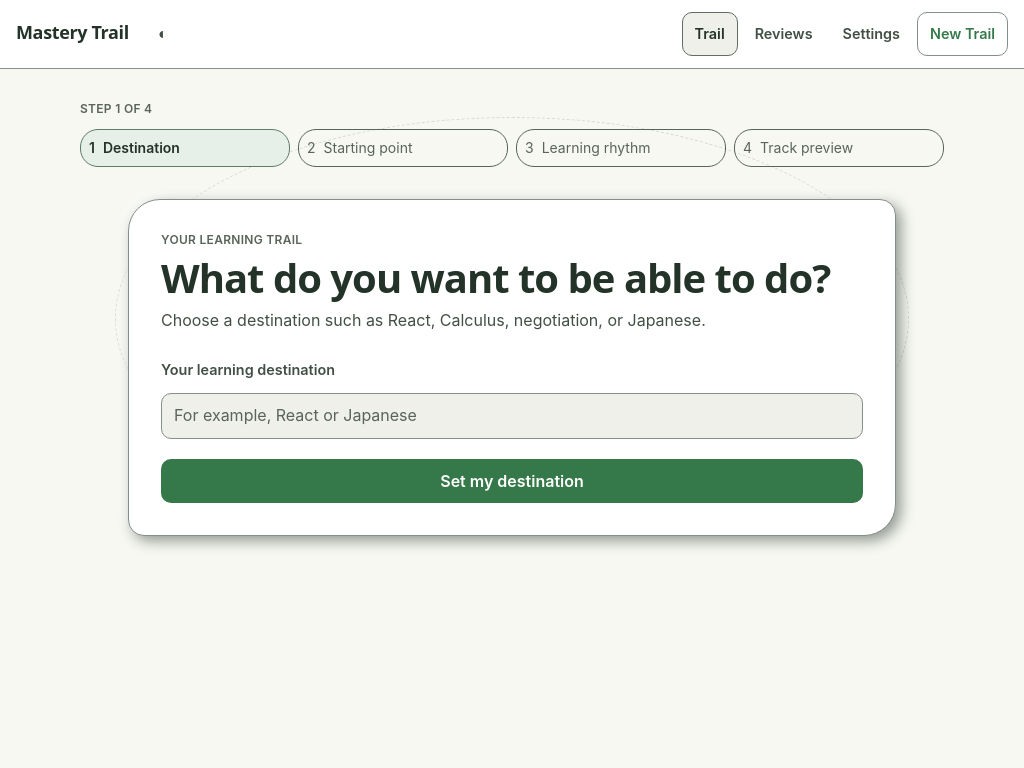
OnboardingFlow › offers a clear retry when placement preparation fails
The image size is (1024, 768).
In the field labelled "Your learning destination": (512, 416) [161,393,863,439], type "React"
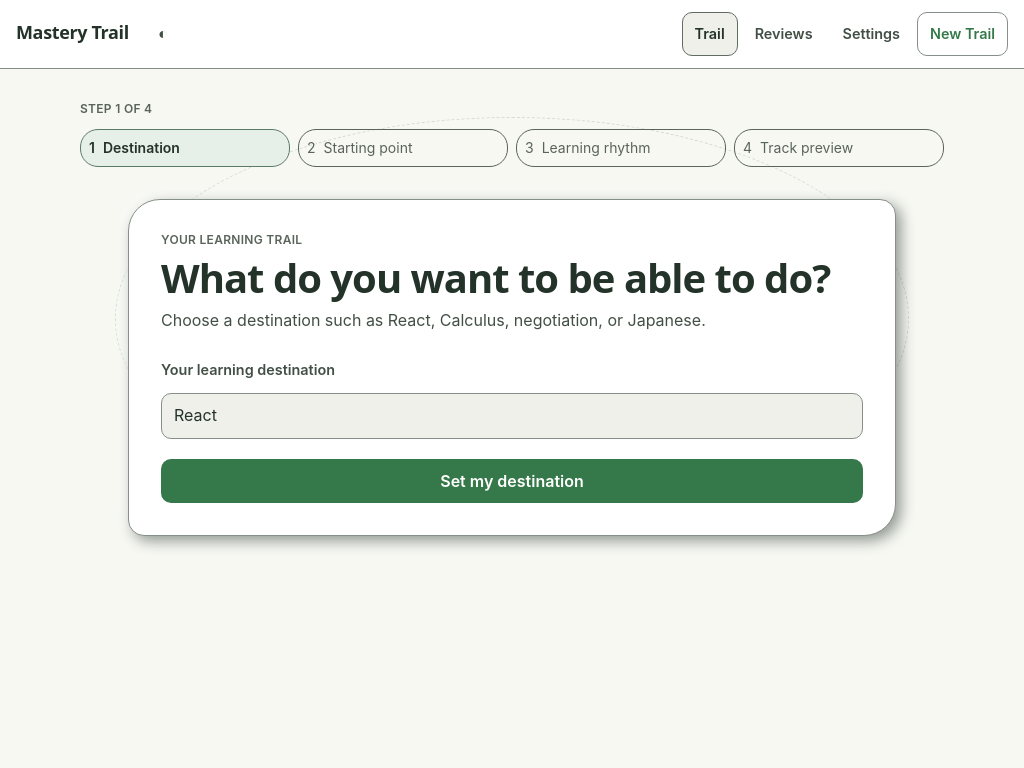
Click the button "Set my destination": (512, 481) [161,459,863,503]
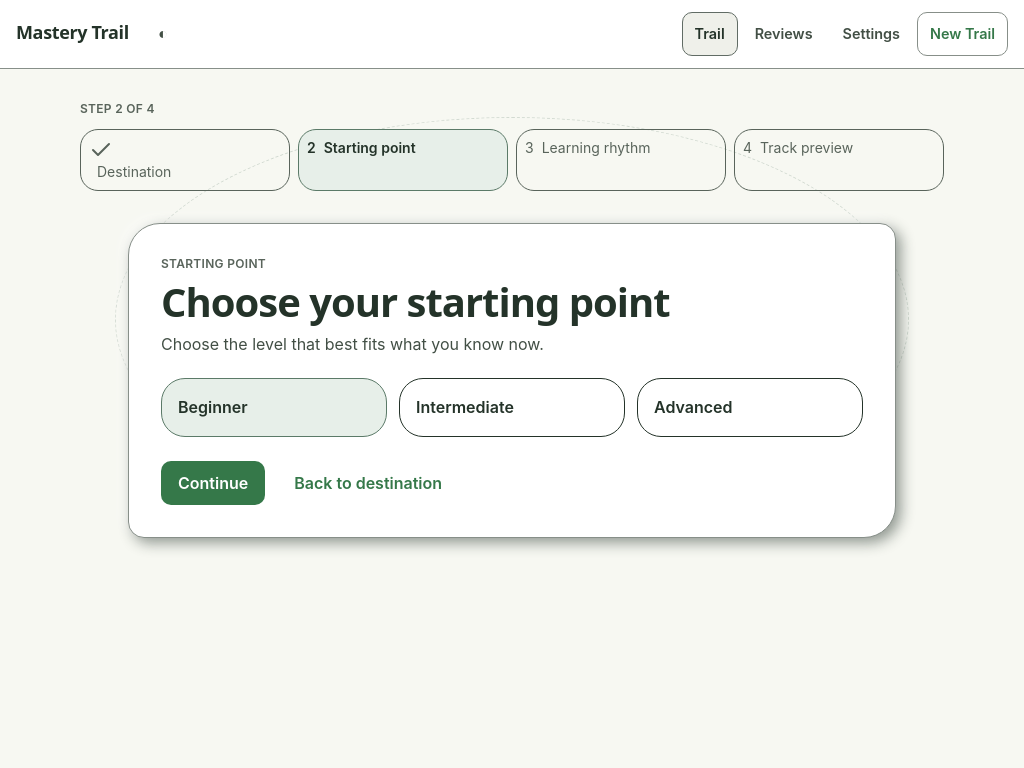
Click the button "Intermediate": (512, 407) [399,378,625,437]
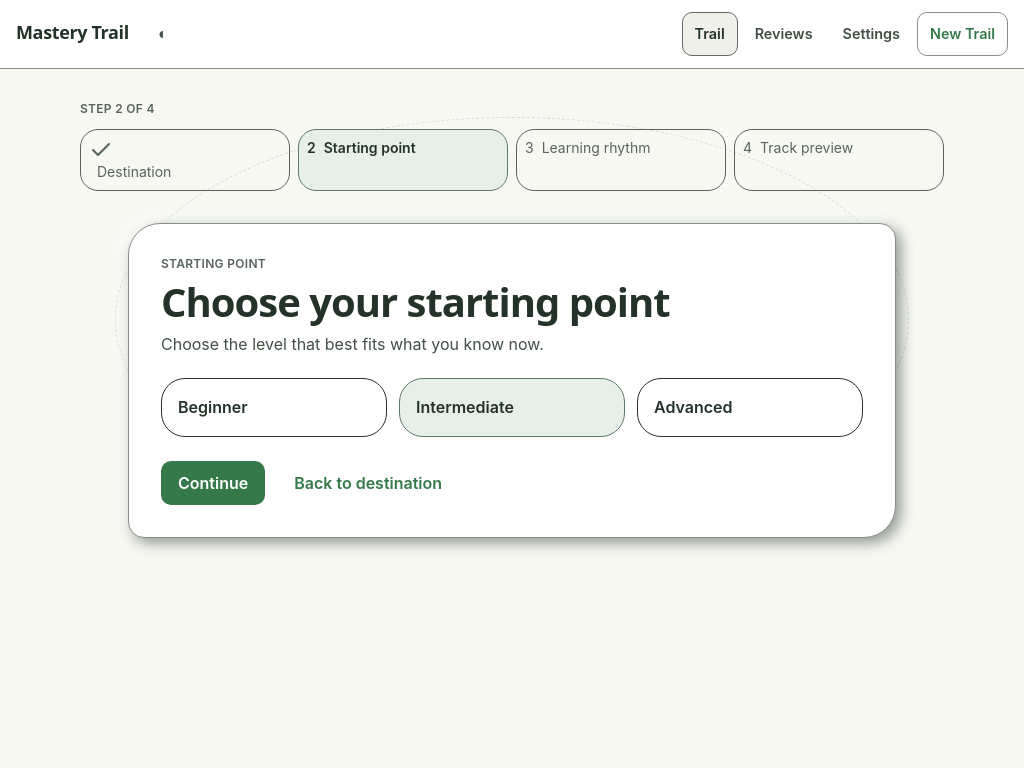
Click the button "Continue": (213, 483) [161,461,265,505]
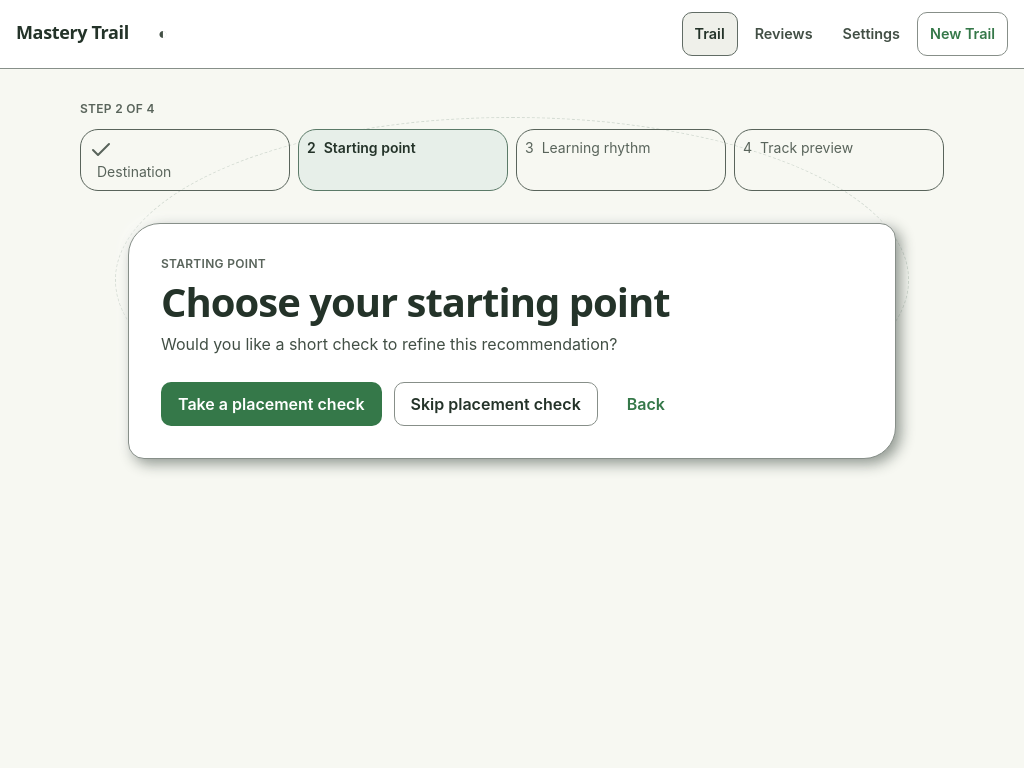
Click the button "Take a placement check": (271, 404) [161,382,382,426]
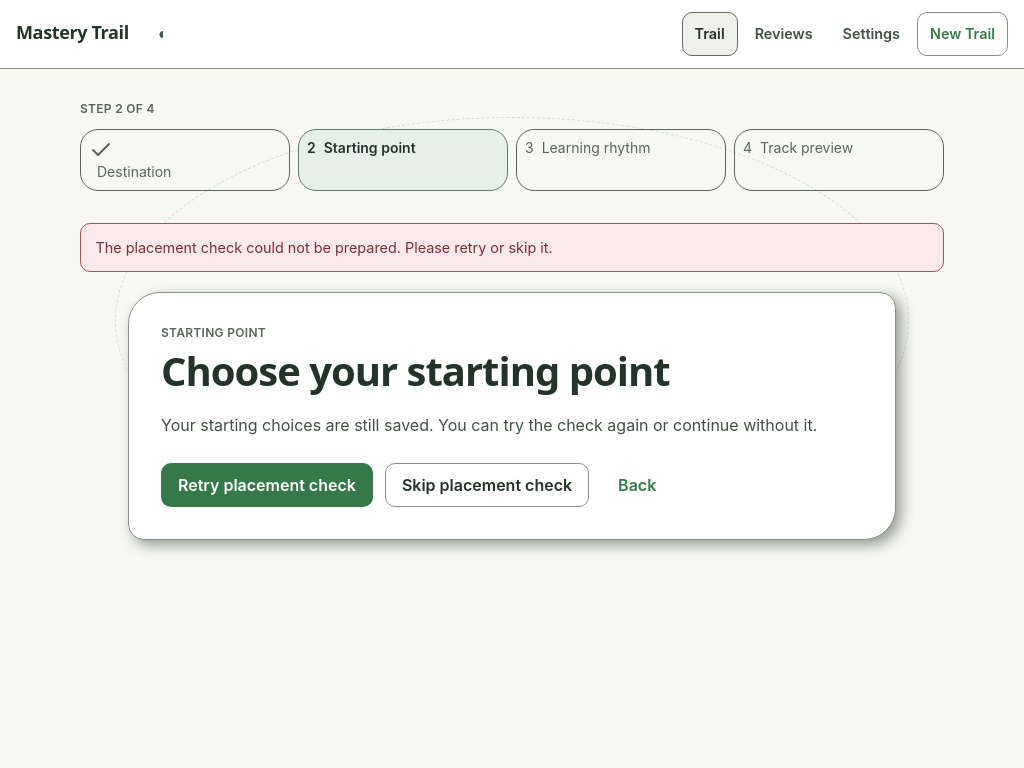
Check: the button "Skip placement check" is shown, box [385,463,589,507]
Check: the message shows "placement check could not be prepared", box [95,239,553,256]
Check: the button "Retry placement check" is shown, box [161,463,373,507]
Click the button "Back": (637, 485) [601,463,673,507]
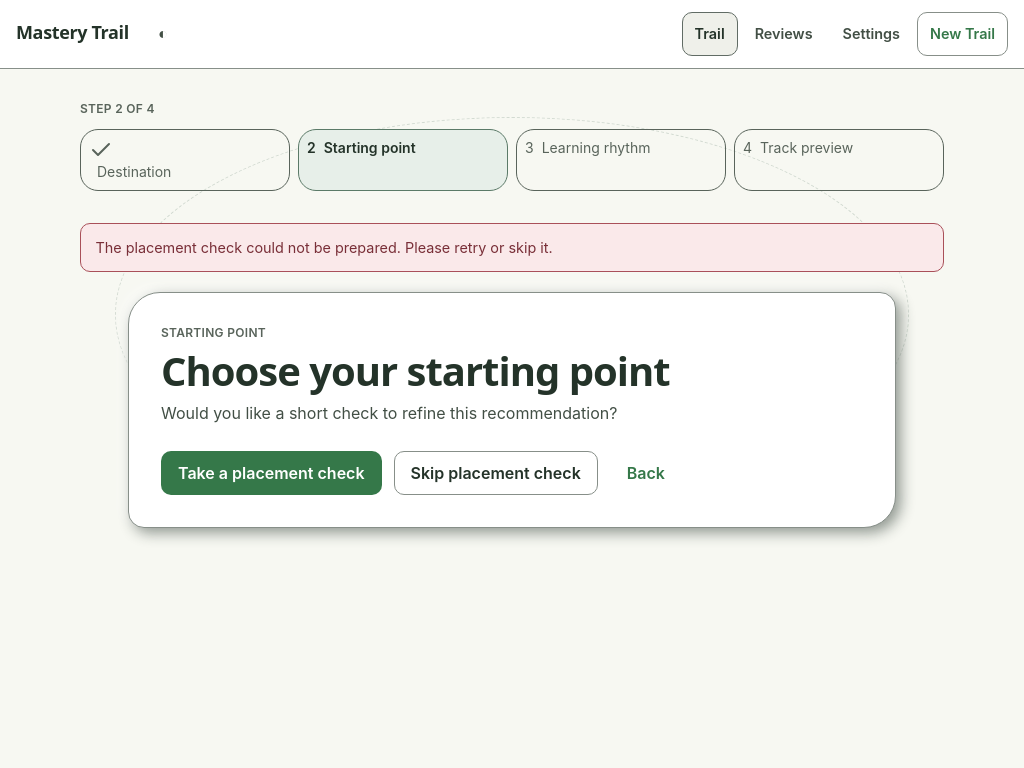
Check: the button "Take a placement check" is shown, box [161,451,382,495]
